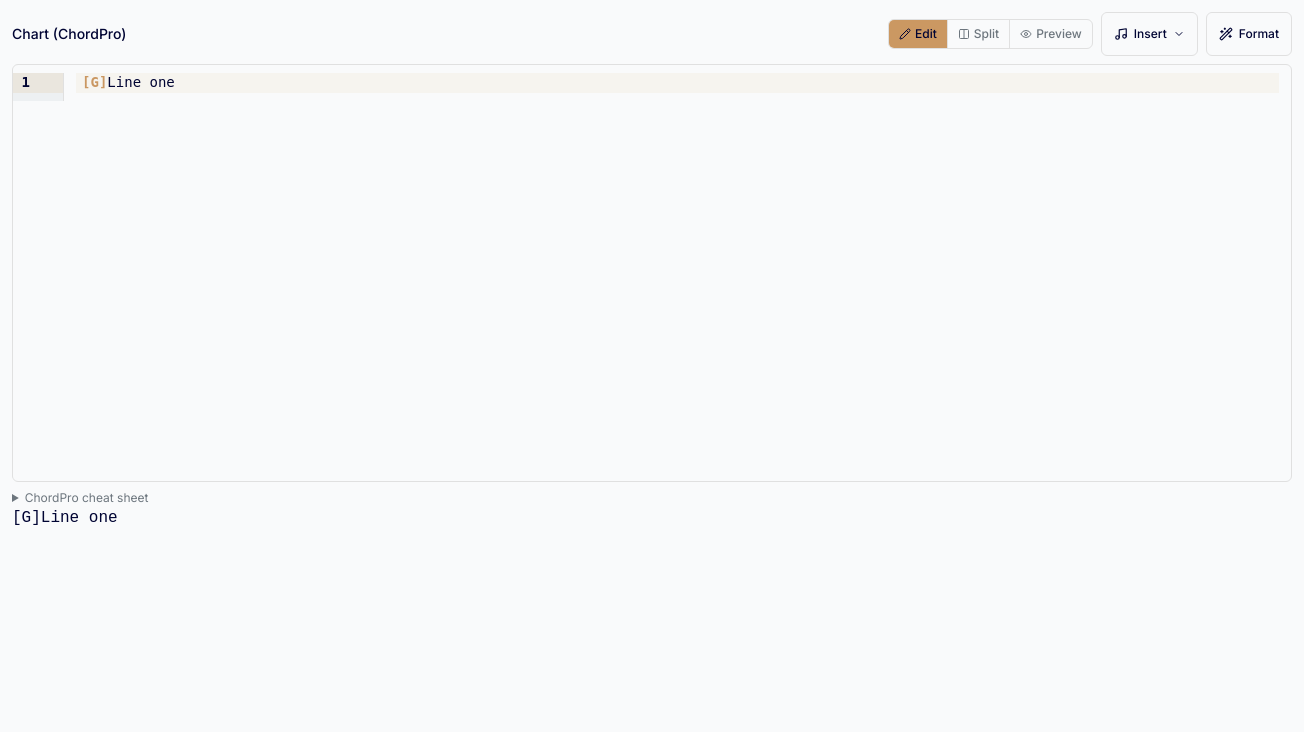
Test case: ChordProEditor › inserts a section block from the Insert menu
The image size is (1304, 732).
Expected: the field with class "cm-content" is shown, x1=64 y1=73 x2=1291 y2=101
Step 1. Click the button with test id "section-insert-btn" → click(1149, 34), box x1=1101 y1=12 x2=1198 y2=56
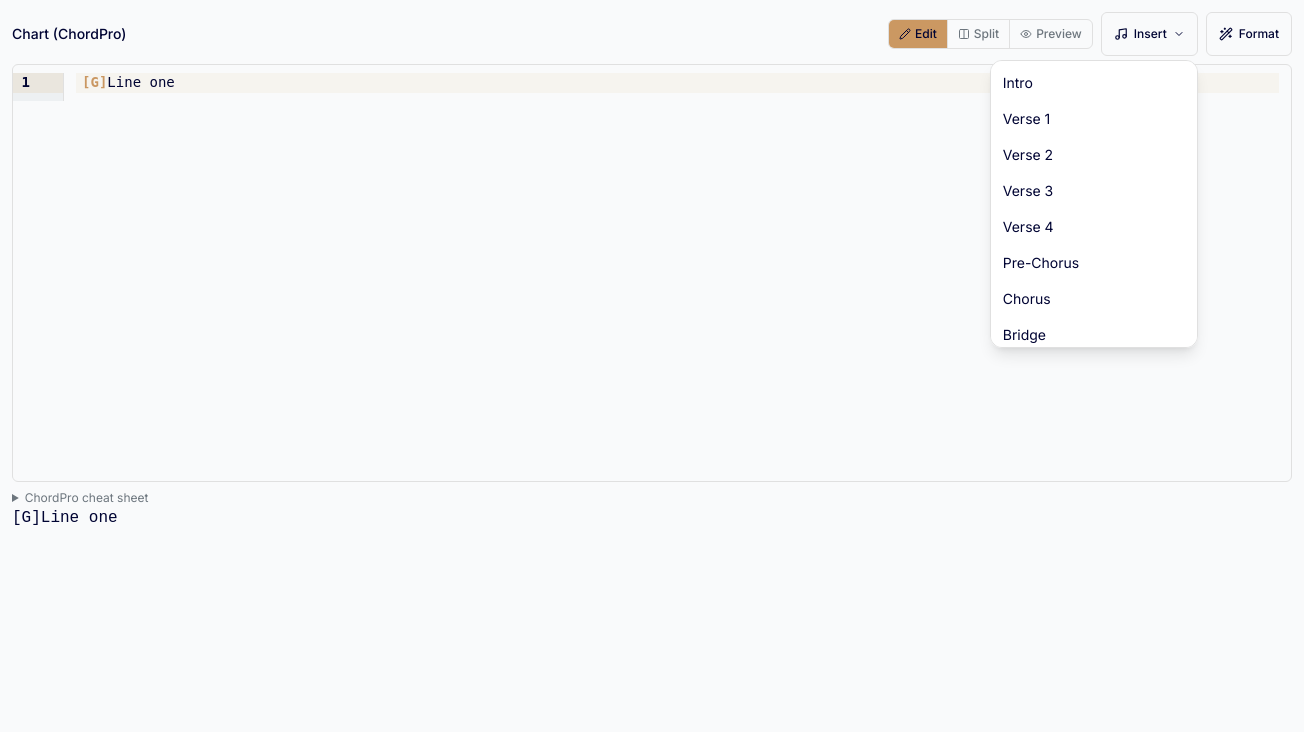
Step 2. Click the menu item "Bridge" → click(1094, 335), box x1=991 y1=317 x2=1197 y2=353
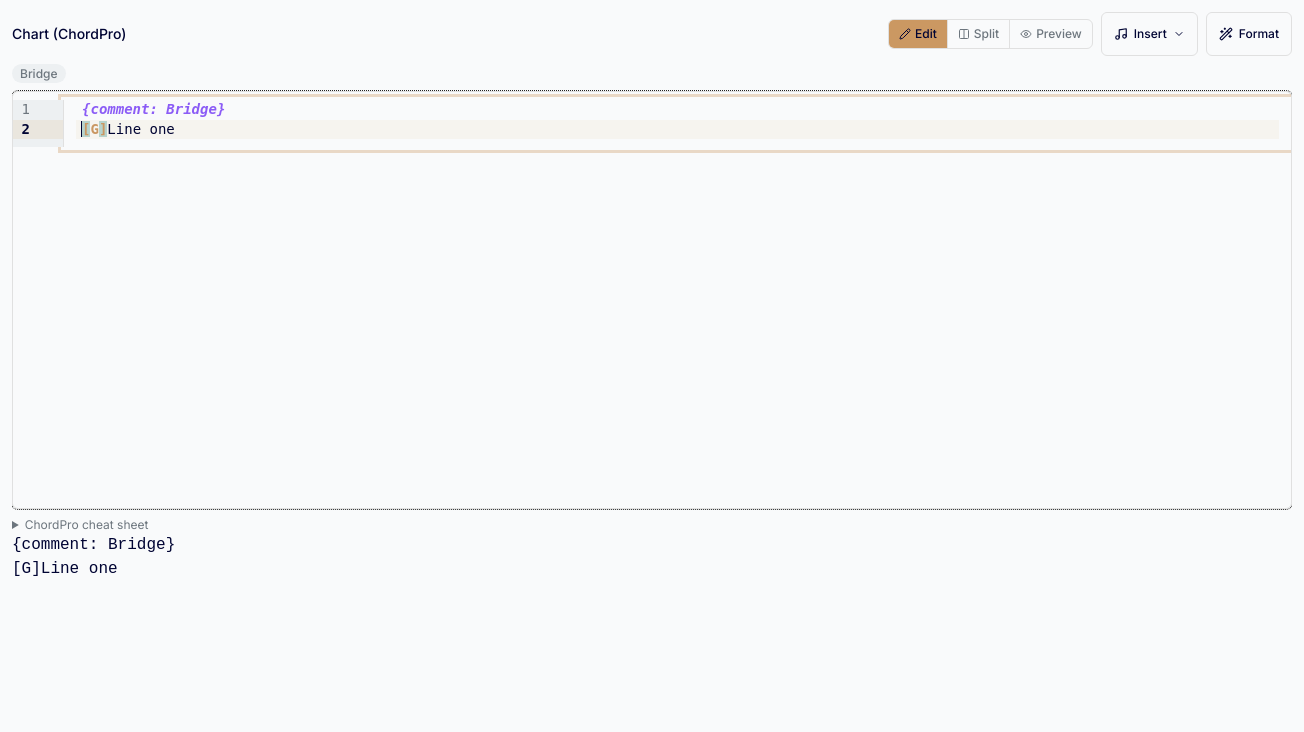
Result: the text with test id "value" shows "{comment: Bridge}" at x1=12 y1=536 x2=175 y2=578
Result: the menu is gone
